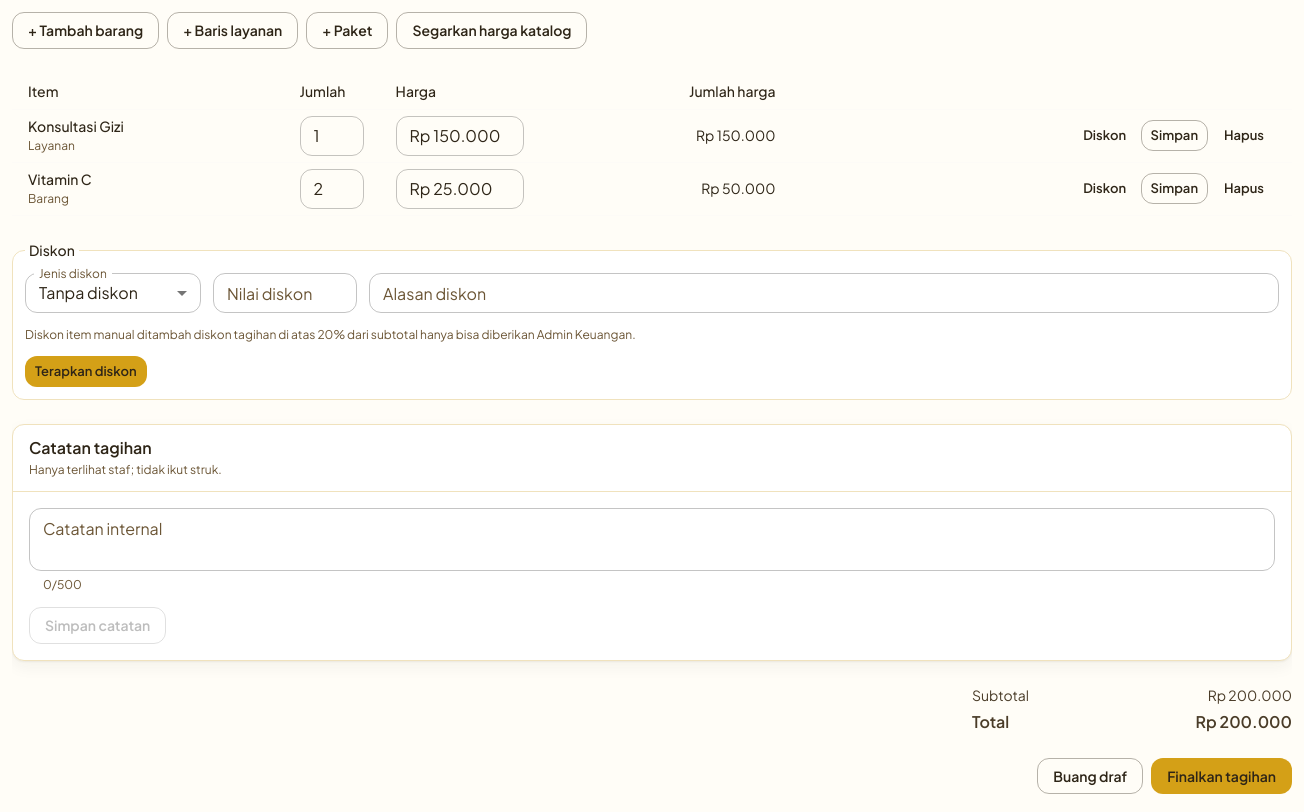
editor draf tagihan › pesan versi usang dari server ditampilkan
Click the button with aria-label "Hapus Vitamin C" at x=1244, y=188, box [1212,173,1276,204]
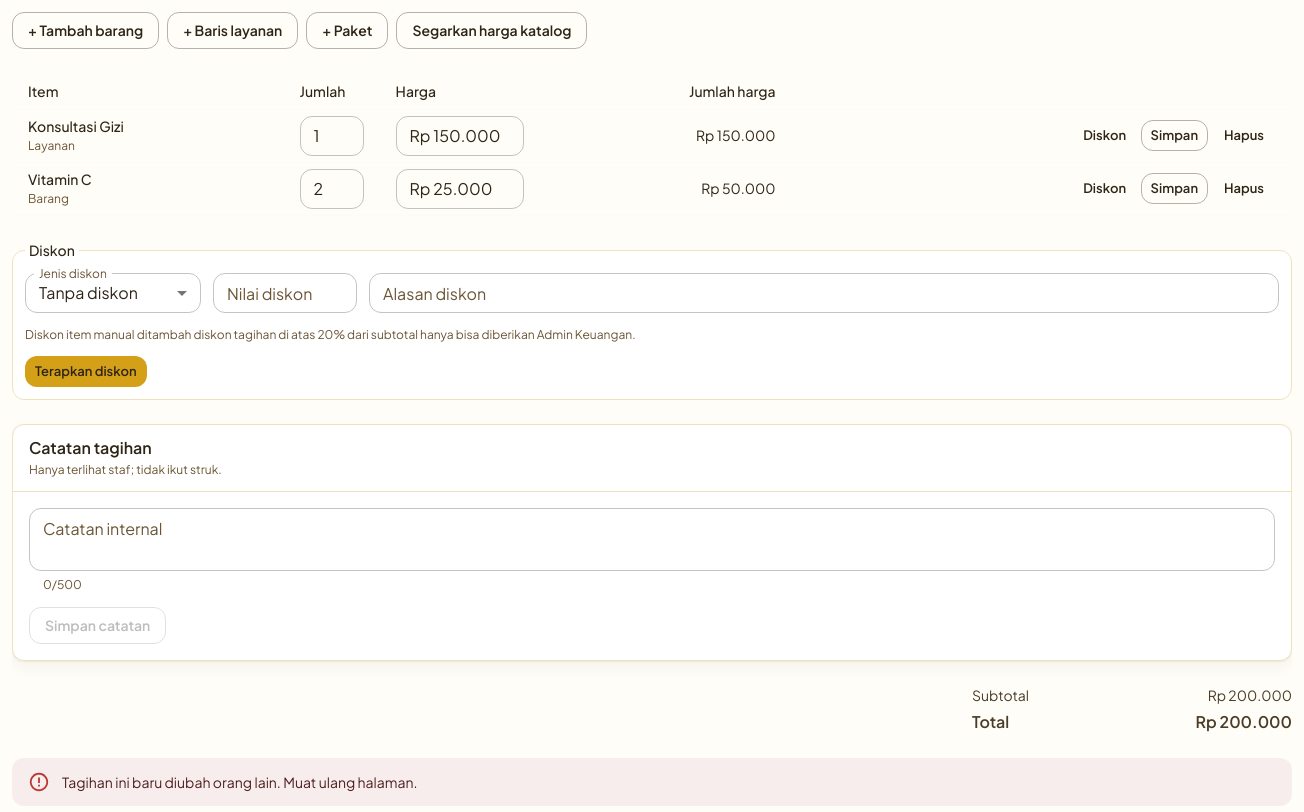
Now the message shows "Muat ulang halaman", box [62,773,418,791]
